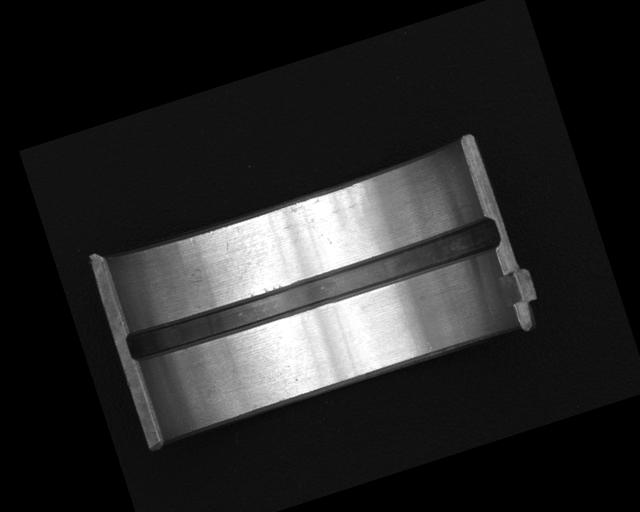gap: (121, 210, 506, 368)
